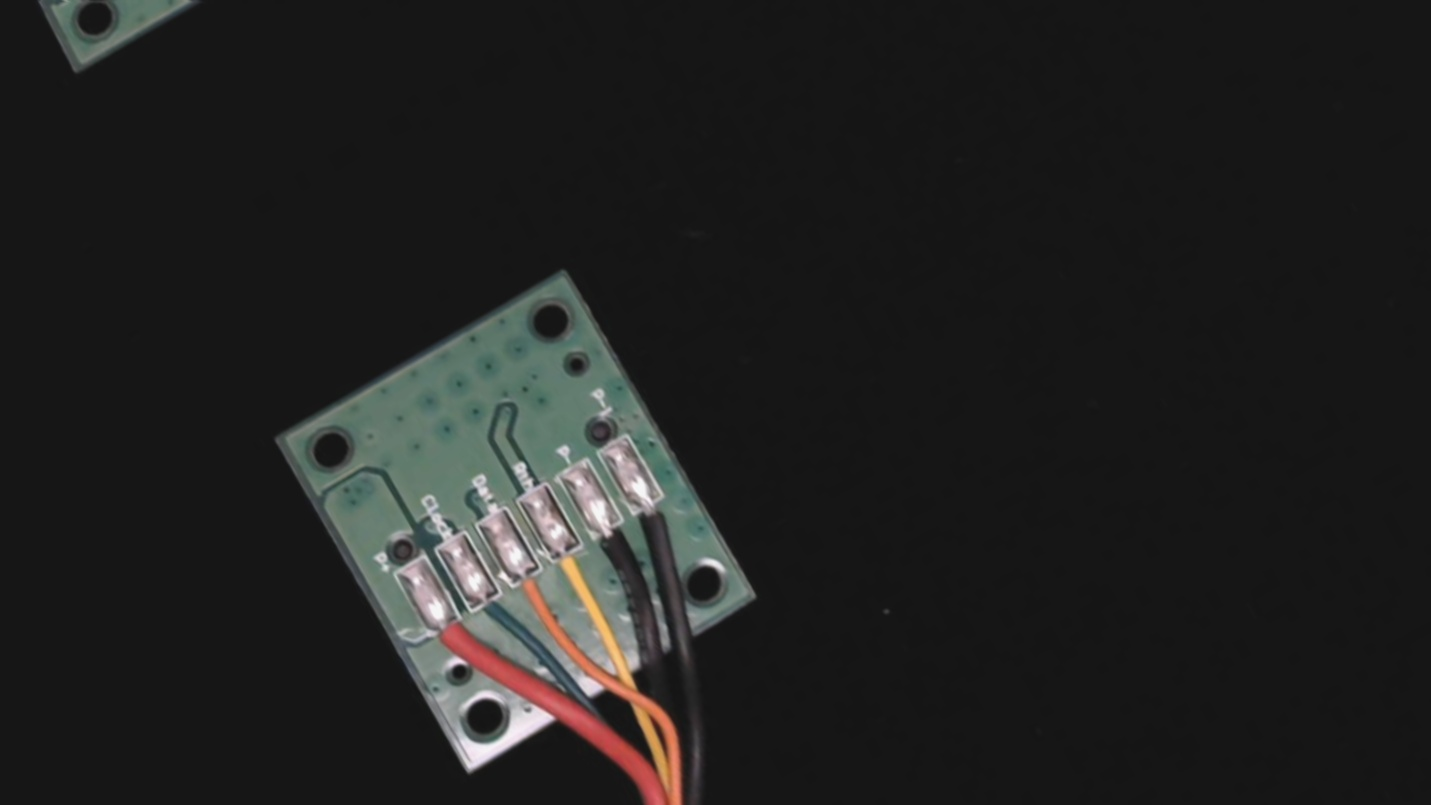Black: (571, 501, 659, 598)
Black1: (617, 479, 699, 569)
Green: (454, 571, 527, 649)
Orange: (495, 549, 573, 635)
Red: (411, 590, 496, 684)
Yellow: (531, 527, 619, 625)
